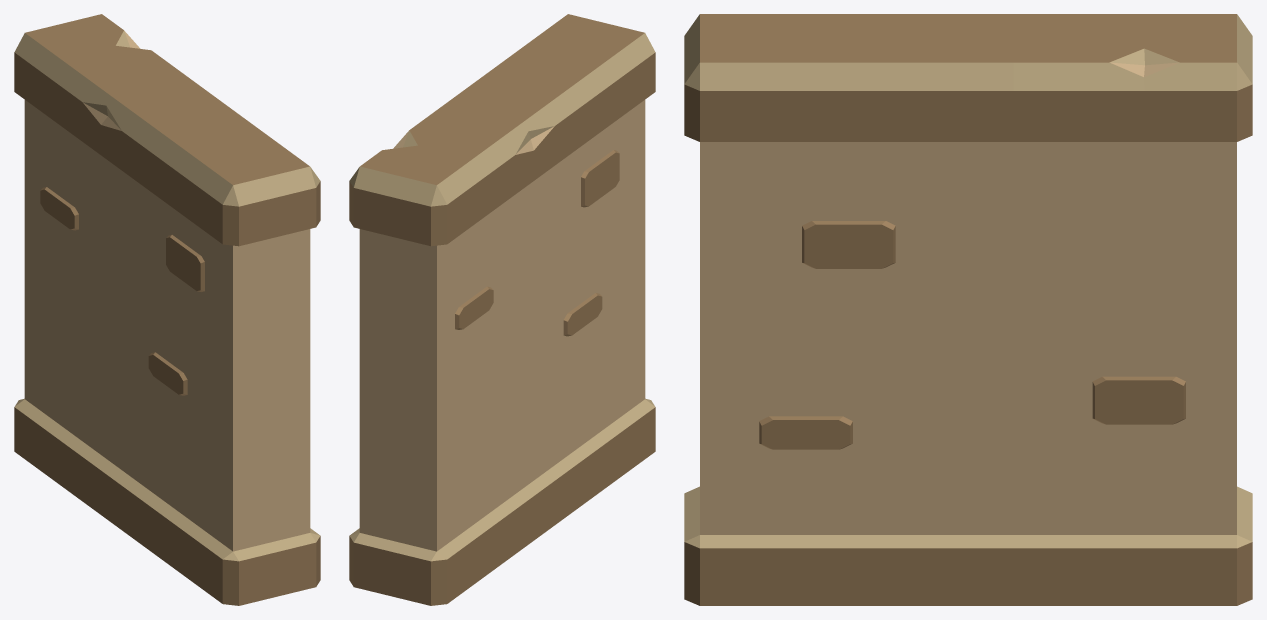
File: FenceStoneSmall_02.glb
3 views of the same model, side by side, from view 1: azimuth 30°, elevation 25°; view 2: azimuth 150°, elevation 25°; view 3: azimuth 270°, elevation 25° (orthographic). The views are drawn at different scales.
Parts seen in each view (by area): view 1: FenceStoneSmall_02; view 2: FenceStoneSmall_02; view 3: FenceStoneSmall_02.
Part boxes in pixels (x1,y1,x2,y2): FenceStoneSmall_02: [14, 14, 320, 605]; FenceStoneSmall_02: [349, 14, 655, 605]; FenceStoneSmall_02: [684, 14, 1252, 605].
Size of what is drawn, in the model's own units: 0.2713 by 1.1 by 1.06.
Materials: 1 (1 with a texture image).
